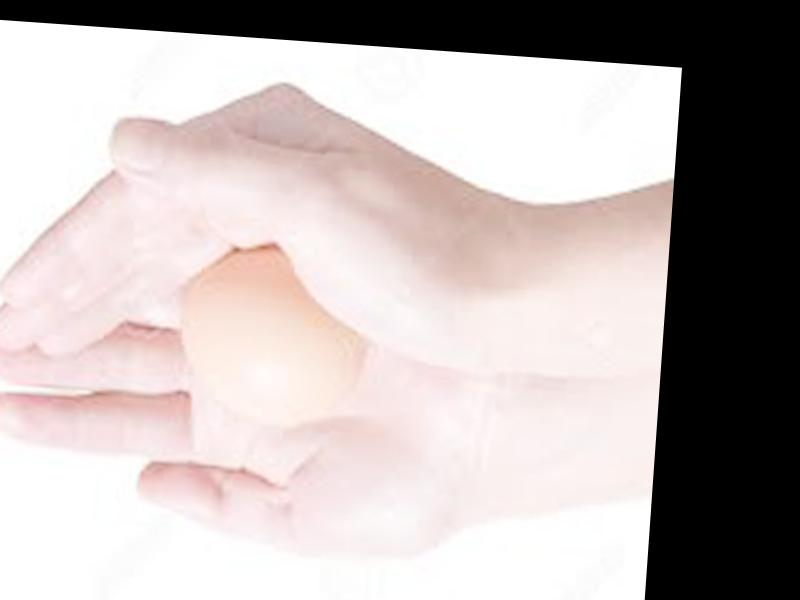Eggs: (176, 246, 361, 421)
